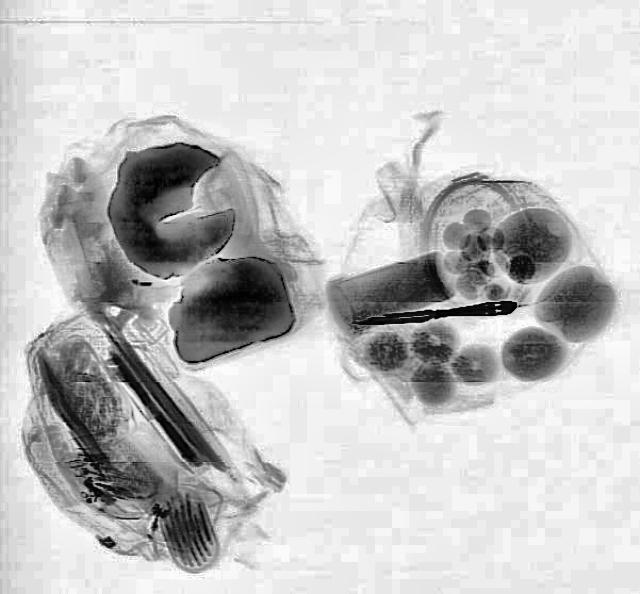Knife: (352, 300, 516, 326)
